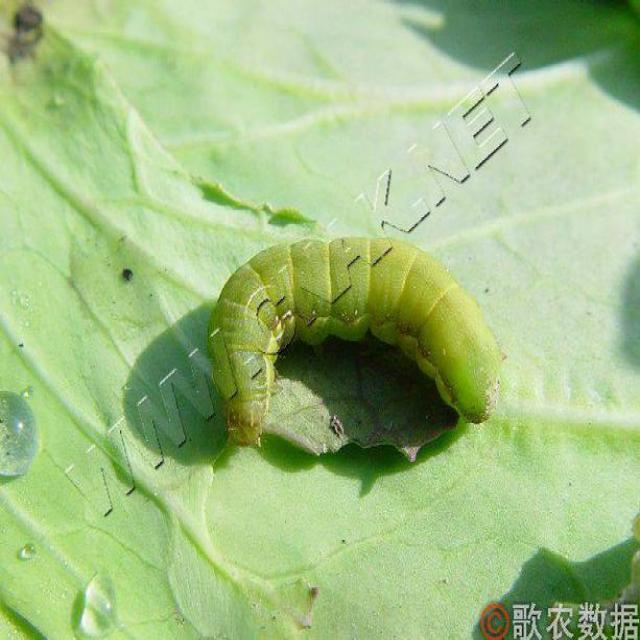BeetArmyWorm-Larva-: (208, 231, 507, 452)
